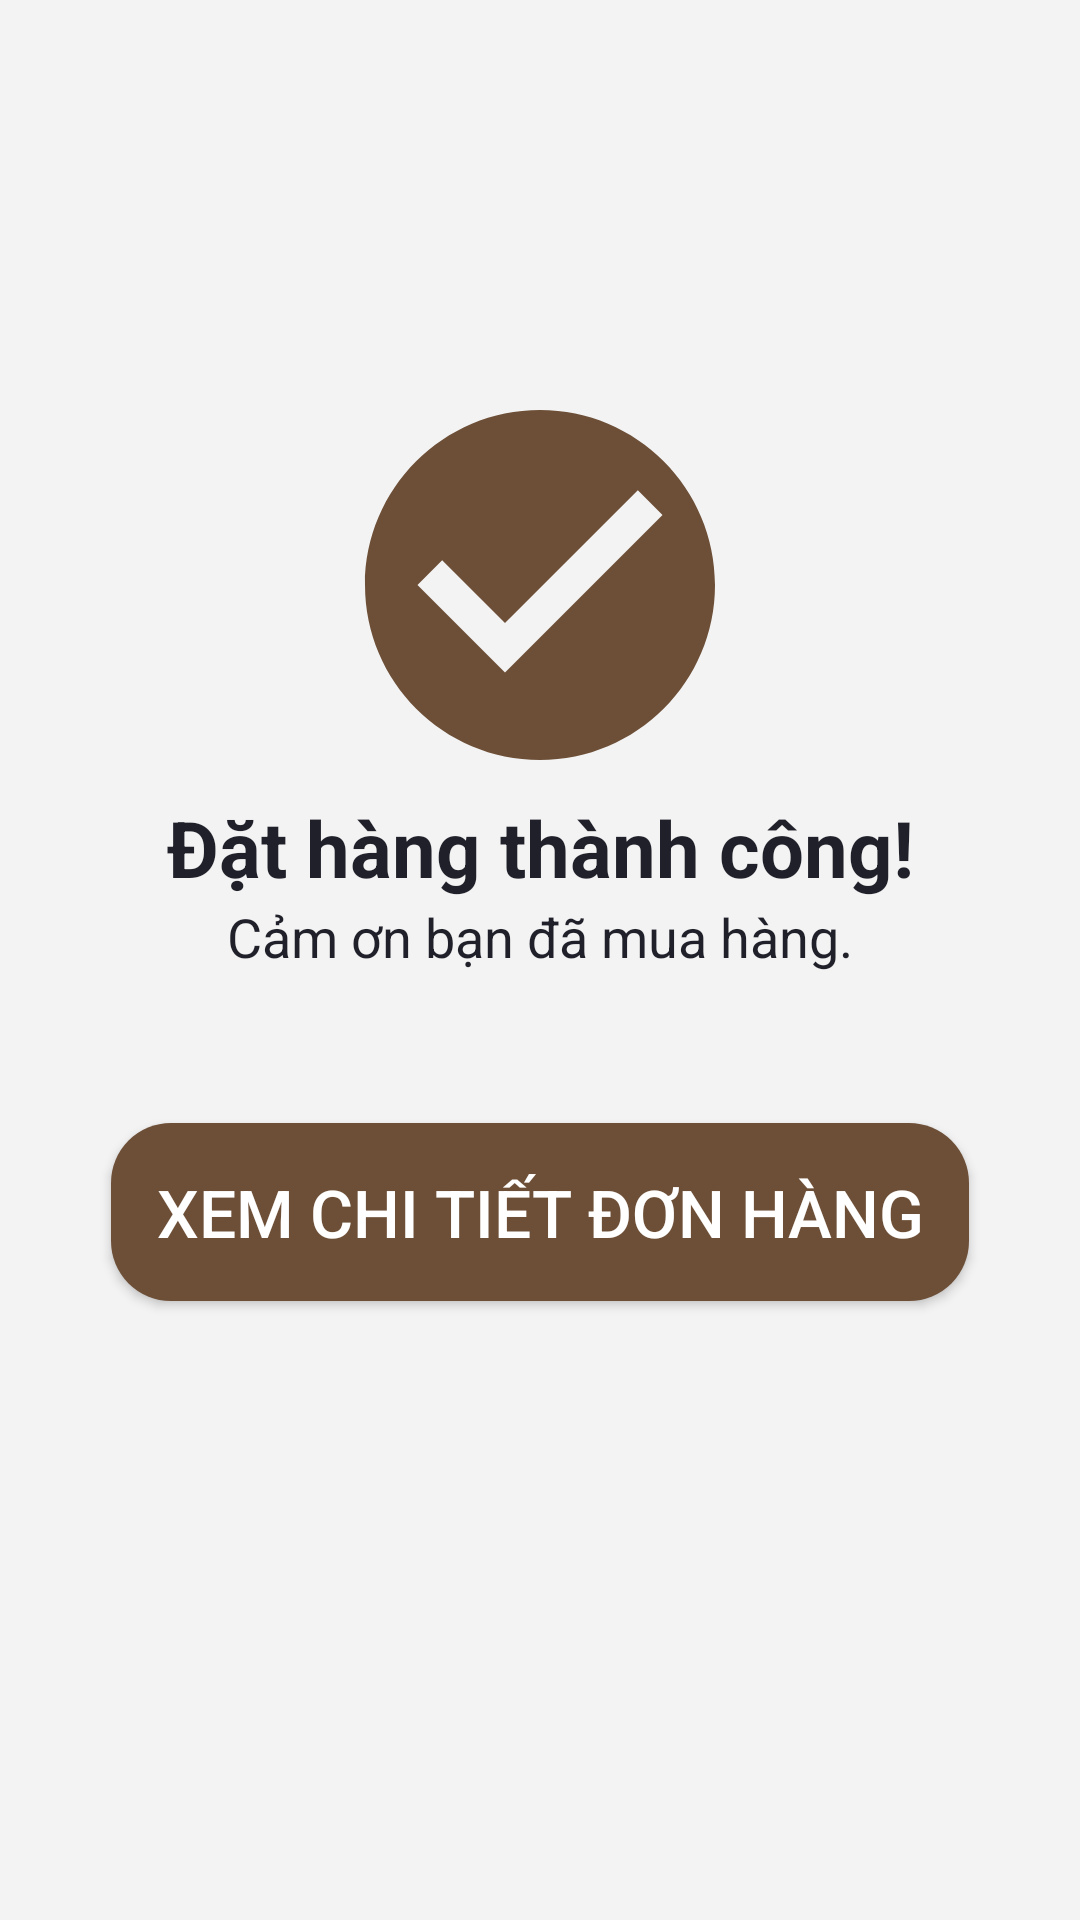

Point at icon controls on the screen. Image size 1080×1920, points as (x,y).
check circle: (540,585)
